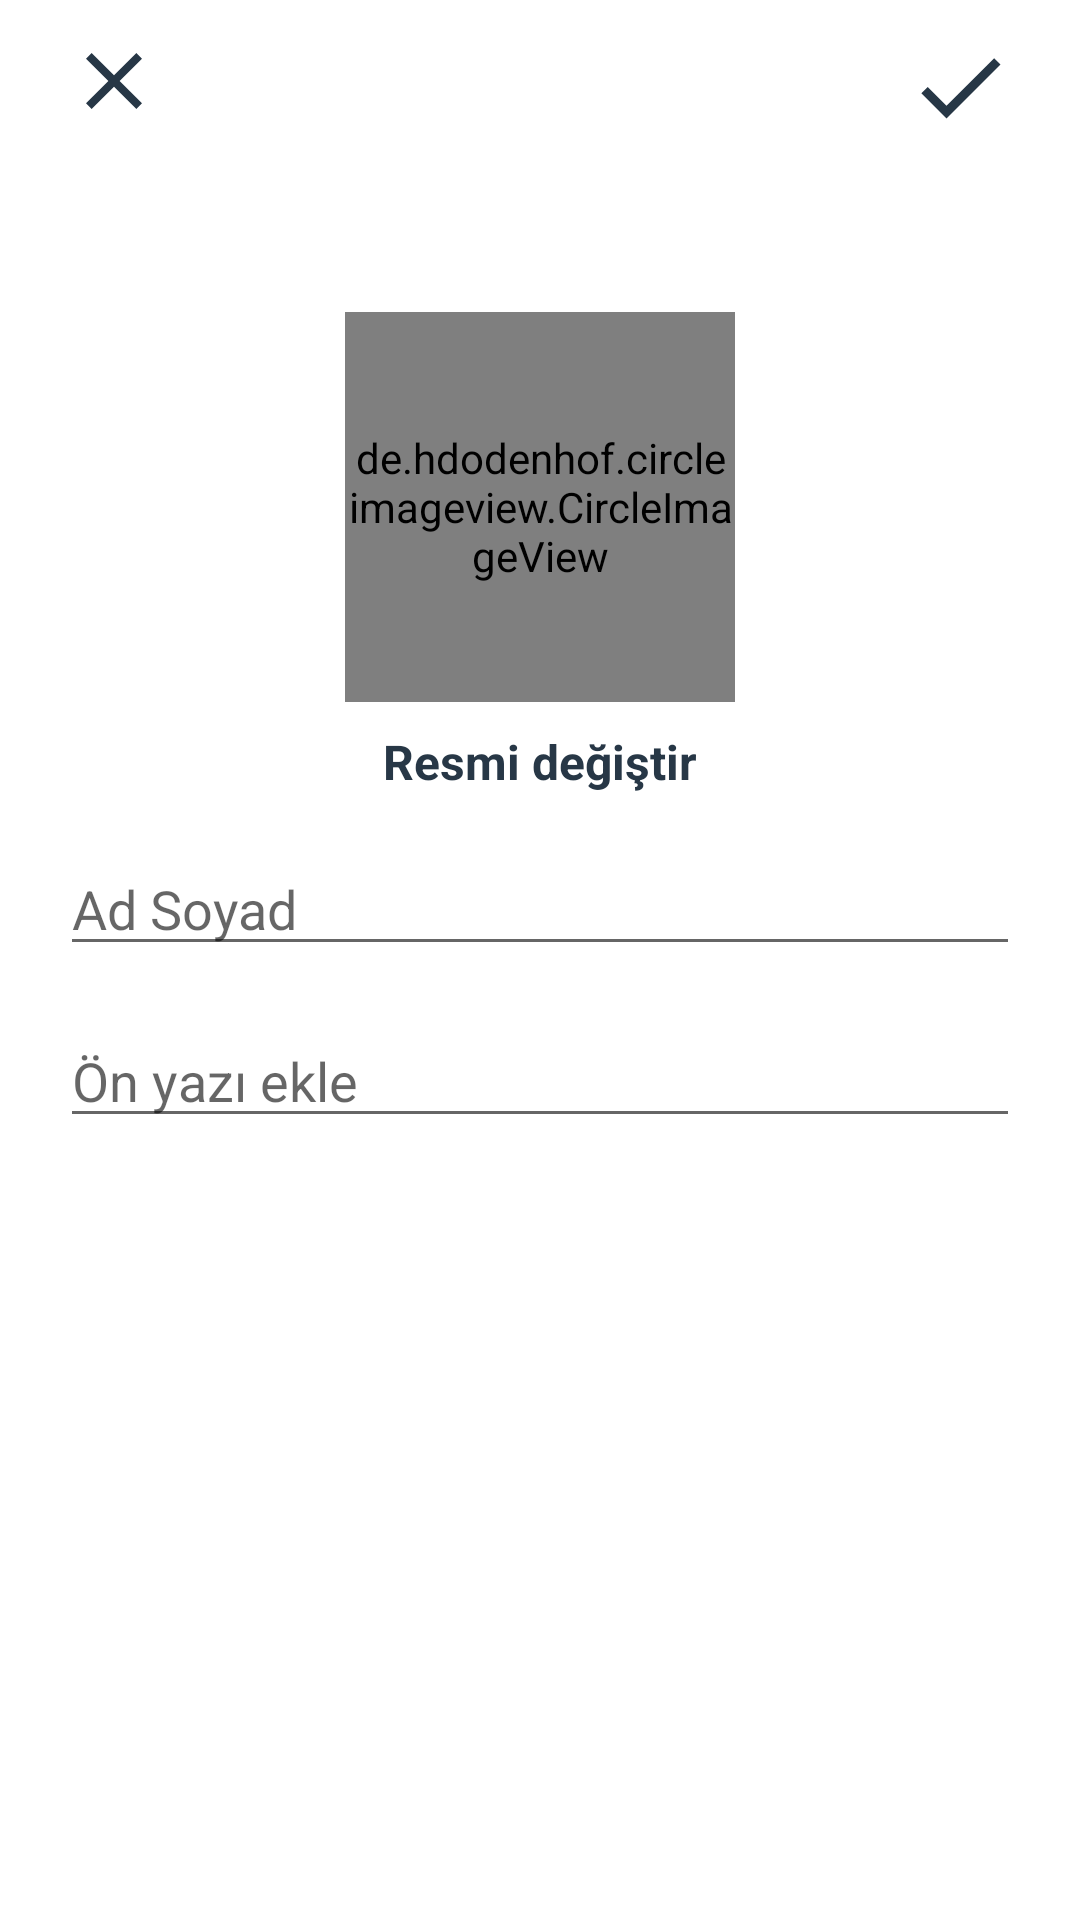

Named icons in this screenshot (1080×1920) and their bounding boxes, [x1,y1,x2,y2]:
check: [921,58,1001,119]
close: [86,53,142,109]
